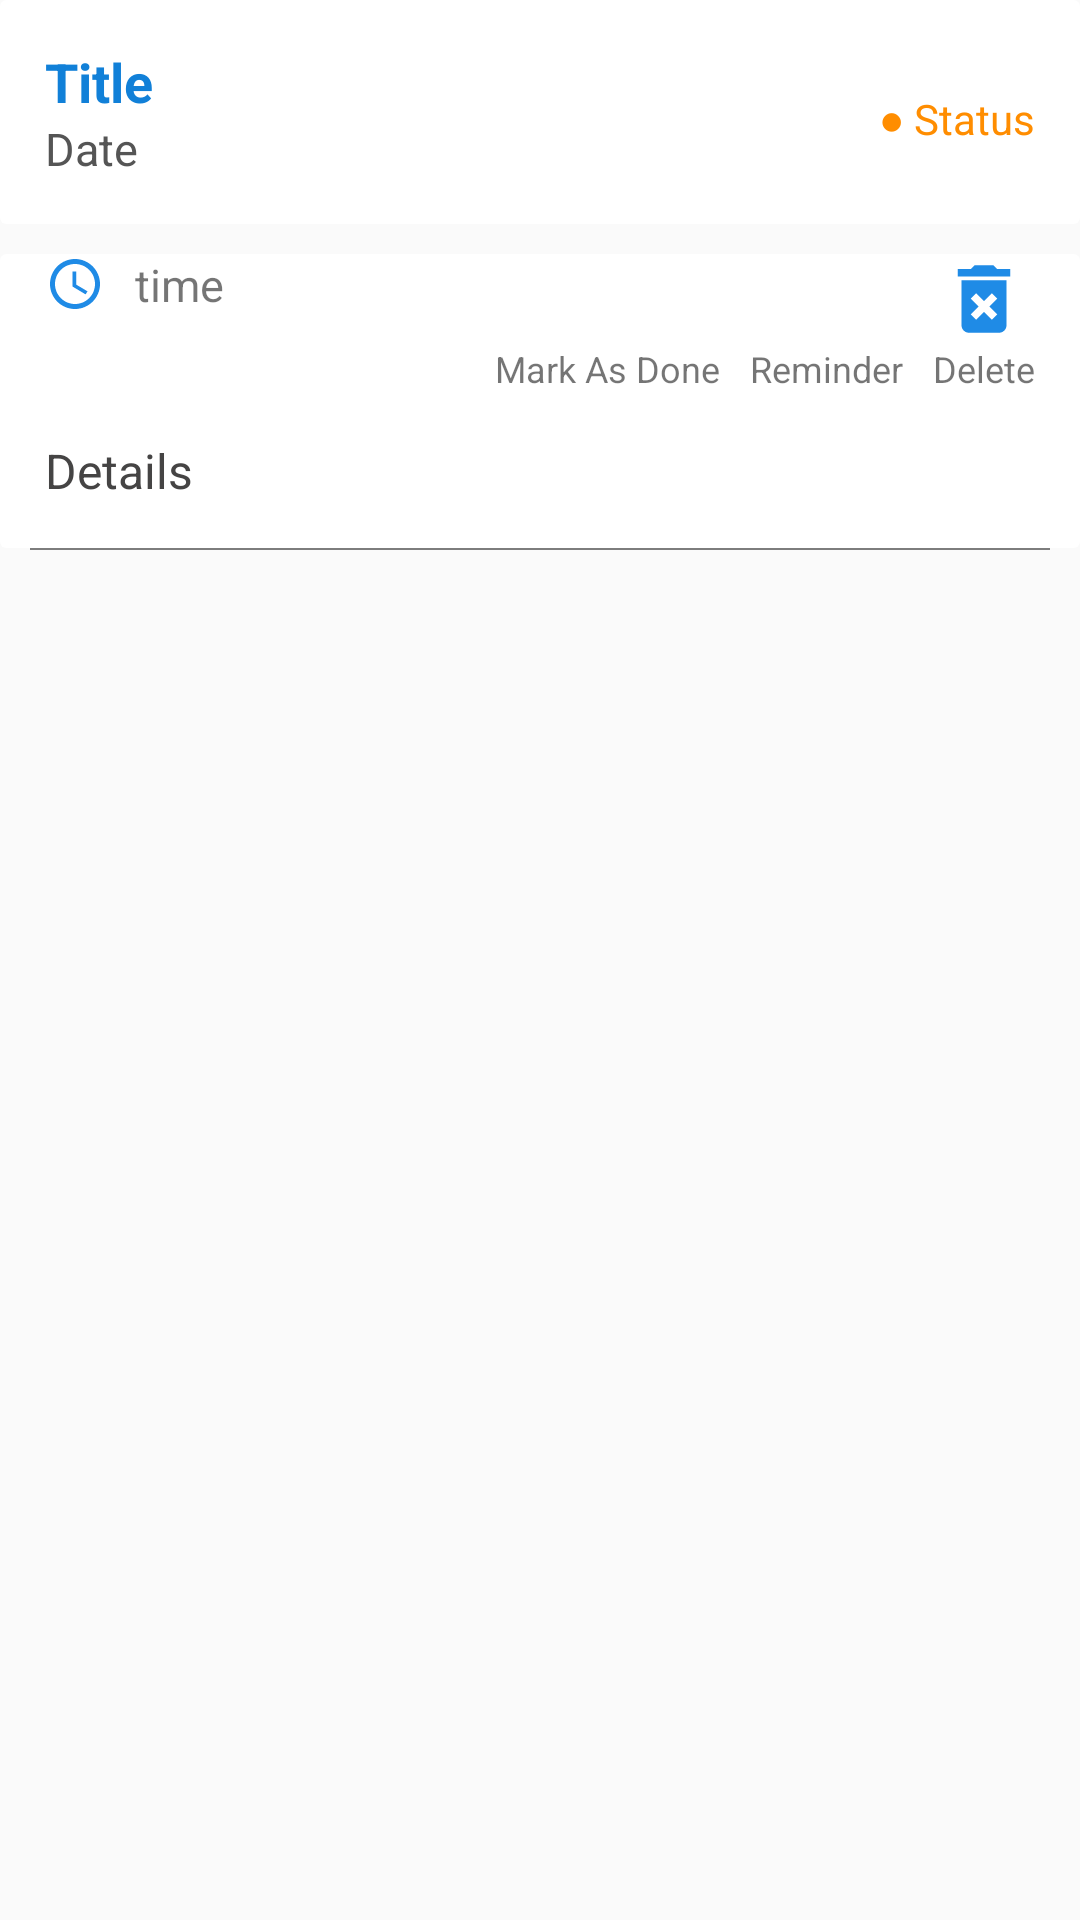

Icon click points for this 1080 x 1920 phone screenshot, format (x,y):
clock: (75,284)
